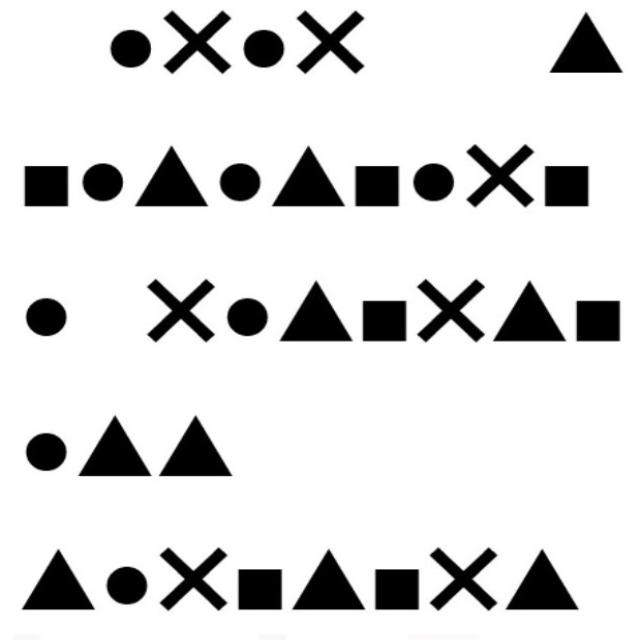circle: (18, 285, 82, 352), (12, 418, 73, 484), (226, 284, 280, 356), (105, 546, 155, 620), (78, 150, 130, 215), (409, 148, 458, 213), (217, 147, 262, 214), (102, 25, 155, 80), (241, 29, 291, 75)
cross: (458, 129, 552, 228), (410, 263, 502, 362), (148, 537, 240, 625), (138, 262, 222, 353), (157, 6, 244, 93), (420, 539, 504, 624), (292, 9, 378, 80)
square: (362, 554, 428, 634), (570, 278, 632, 358), (540, 148, 600, 230), (8, 148, 76, 220), (354, 142, 408, 230), (228, 550, 294, 620), (356, 294, 412, 356)
triangle: (156, 406, 248, 503), (497, 539, 591, 627), (487, 269, 575, 362), (130, 140, 217, 232), (535, 12, 640, 86), (15, 540, 104, 625), (266, 138, 353, 224), (75, 407, 158, 497), (275, 276, 361, 362), (284, 546, 372, 629)
